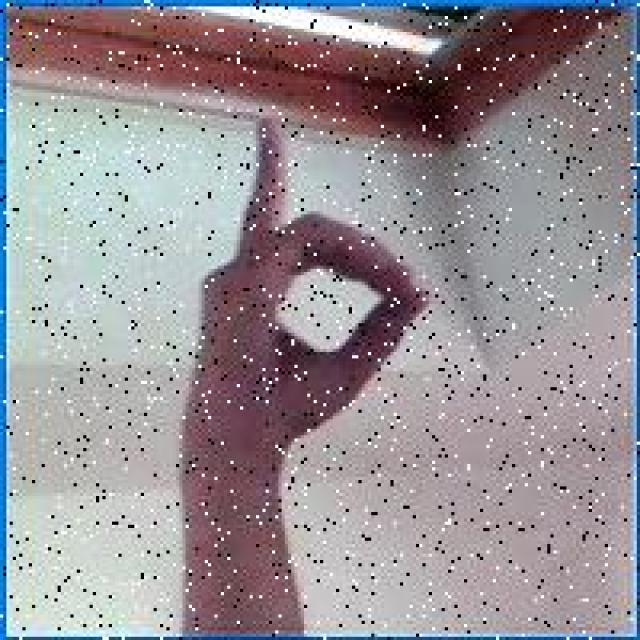D: (180, 116, 438, 518)
